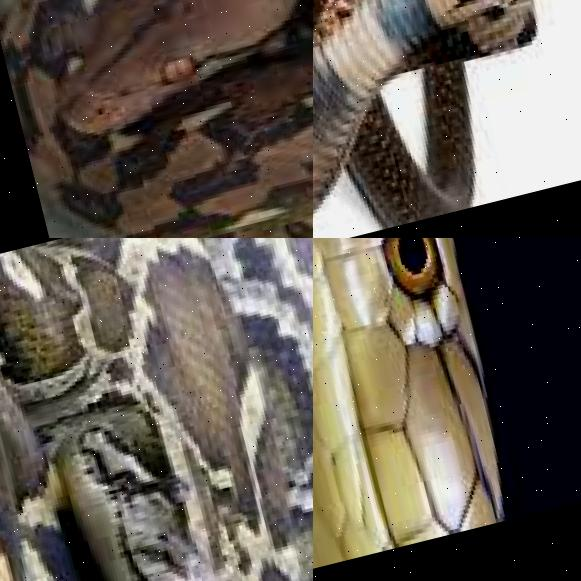snake: (0, 238, 313, 581), (313, 238, 536, 581), (0, 0, 313, 238), (313, 0, 581, 238)
